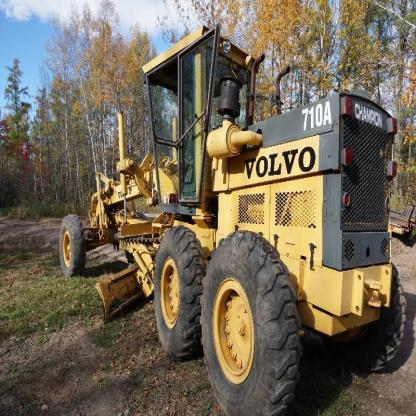bull_dozer/loader/grader: (50, 19, 412, 406)
